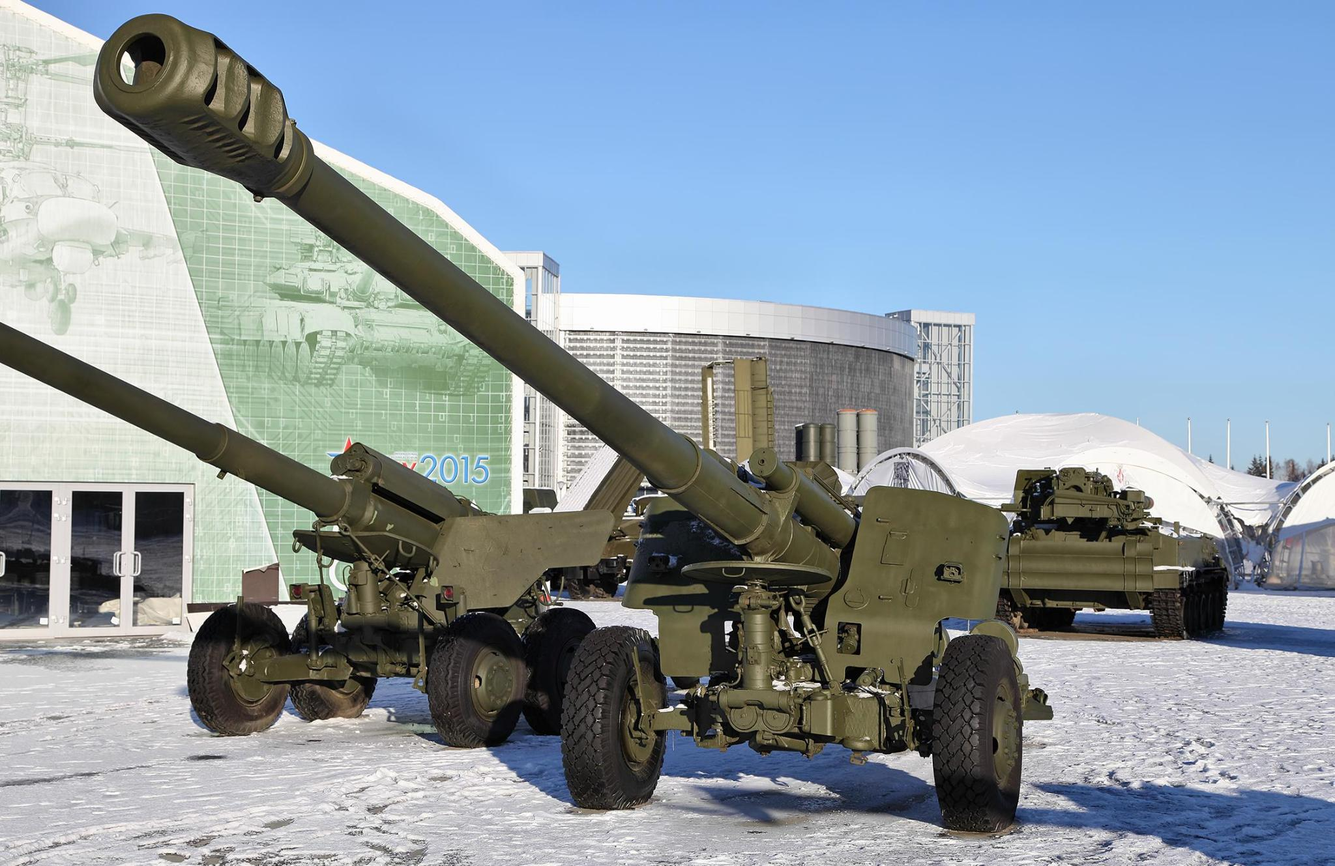sau: (77, 12, 1058, 850), (2, 299, 603, 754)
tank: (987, 445, 1240, 645)
